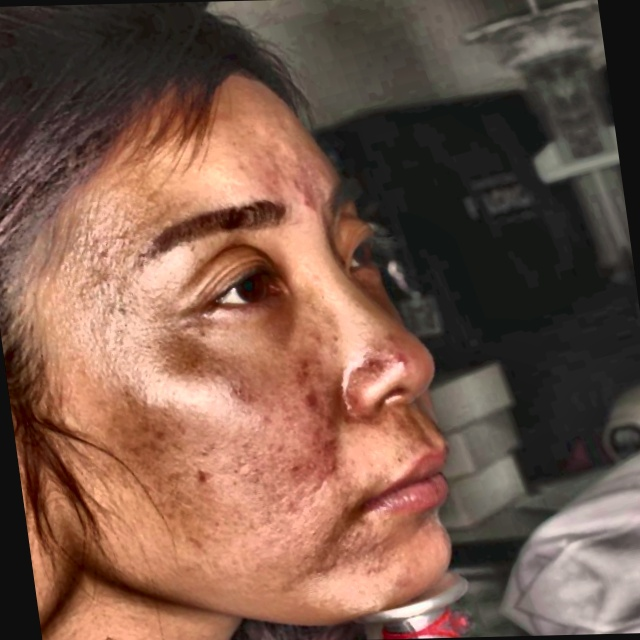comedone: (290, 187, 335, 229), (390, 348, 424, 382)
